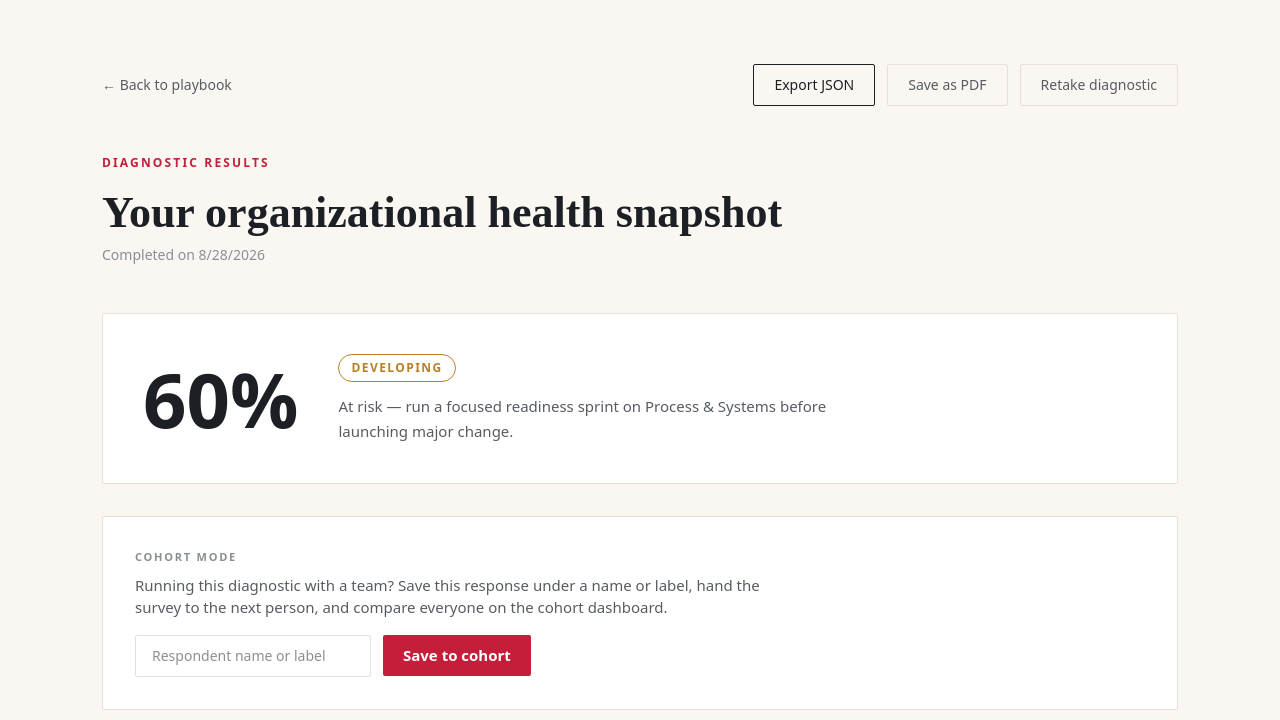
Test: ResultsDashboard cohort integration › saves a named respondent through the cohort card
The image size is (1280, 720).
In the field labelled "Respondent name or label": (253, 656) [135,634,371,676], type "Alice"
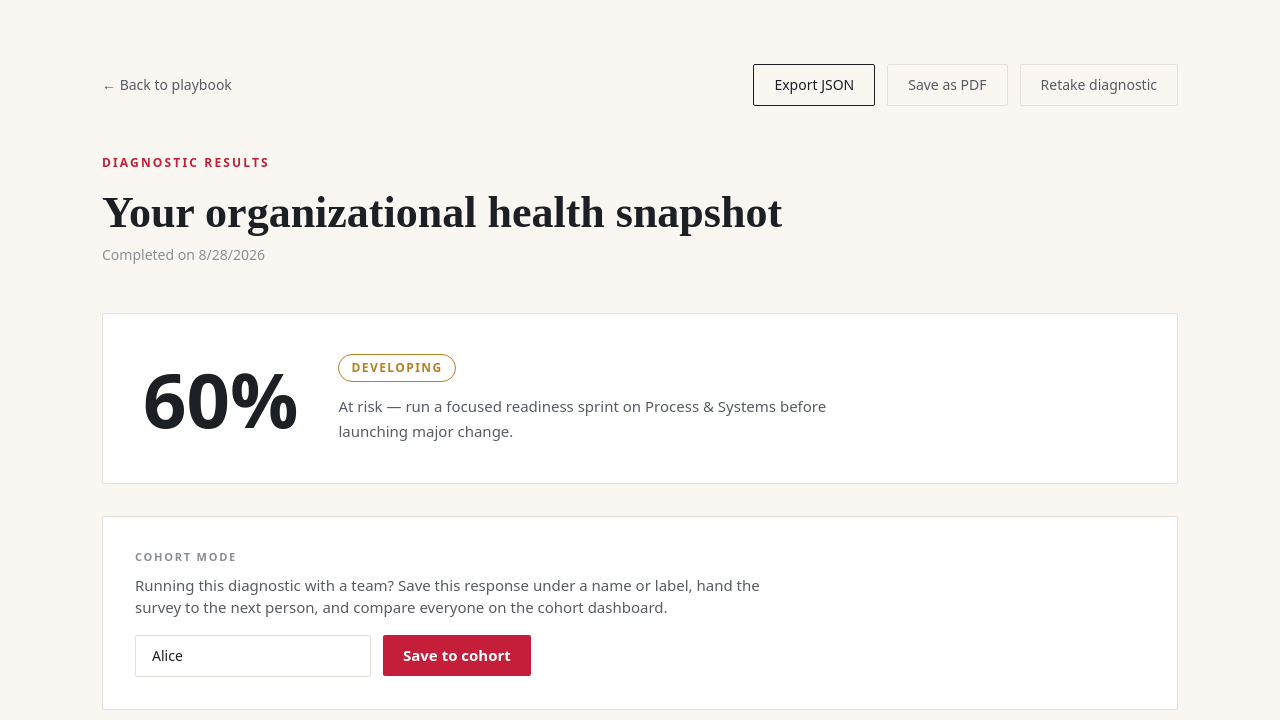
Click the button "Save to cohort": (457, 656) [383,635,531,676]
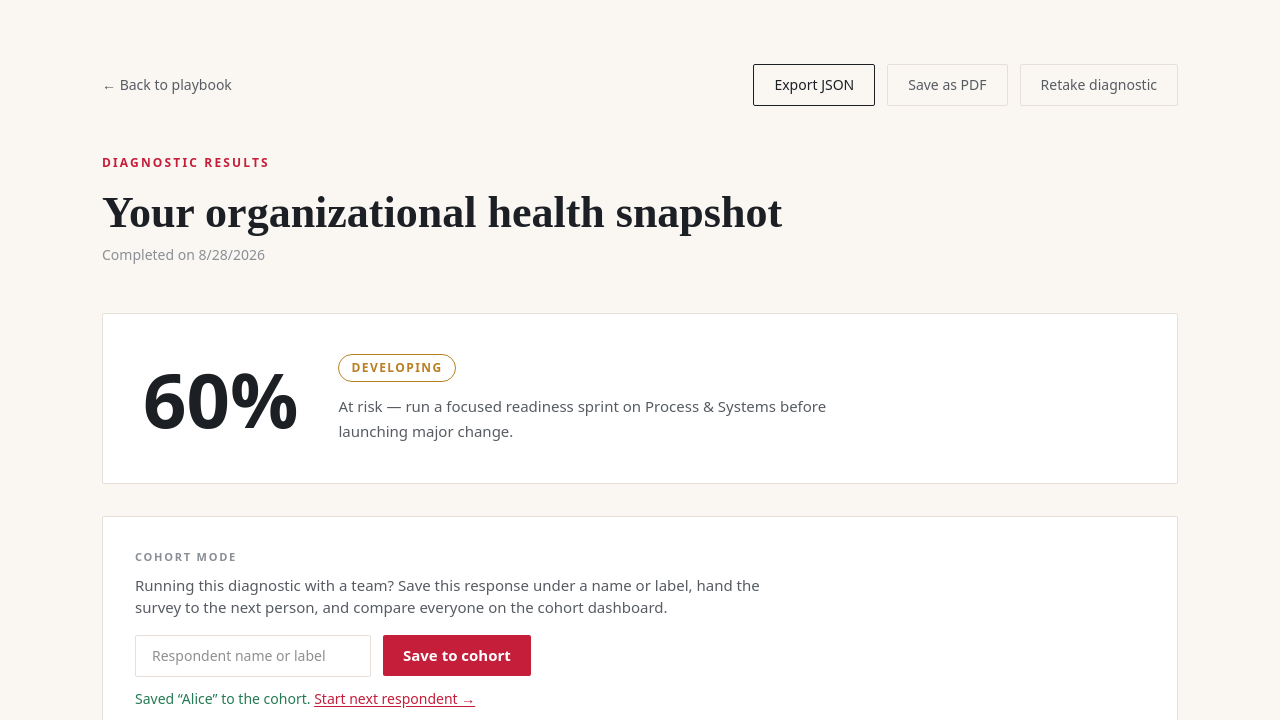
Expected: the text "Saved “Alice” to the cohort. Start next respondent →" is shown, [135,688,475,708]
Expected: the button "Start next respondent →" is shown, [314,688,475,708]
